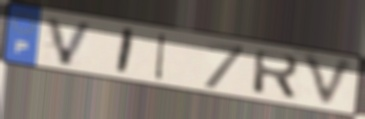7: (203, 39, 245, 90)
I: (113, 26, 139, 77), (152, 31, 169, 82)
R: (250, 48, 301, 102)
V: (300, 52, 358, 111), (44, 15, 96, 69)
